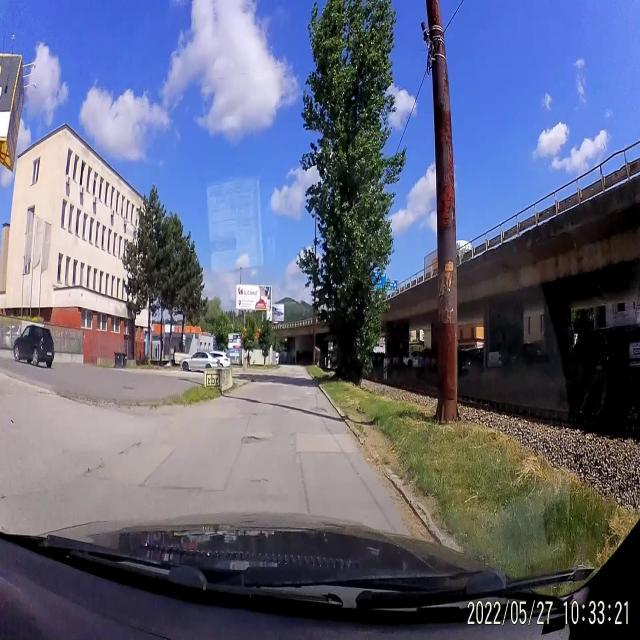Pothole: (240, 433, 270, 446)
